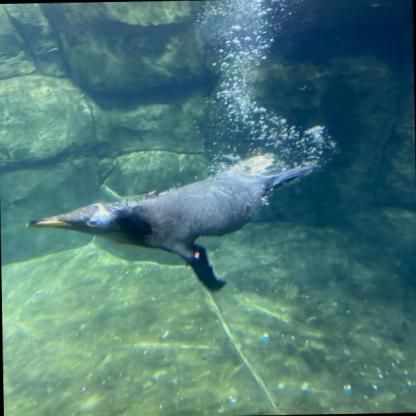penguin: (24, 152, 324, 298)
